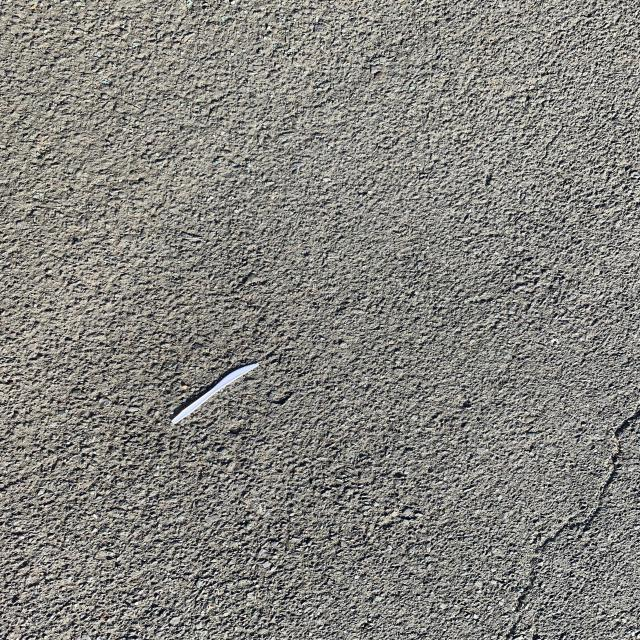litter: (171, 363, 259, 424)
